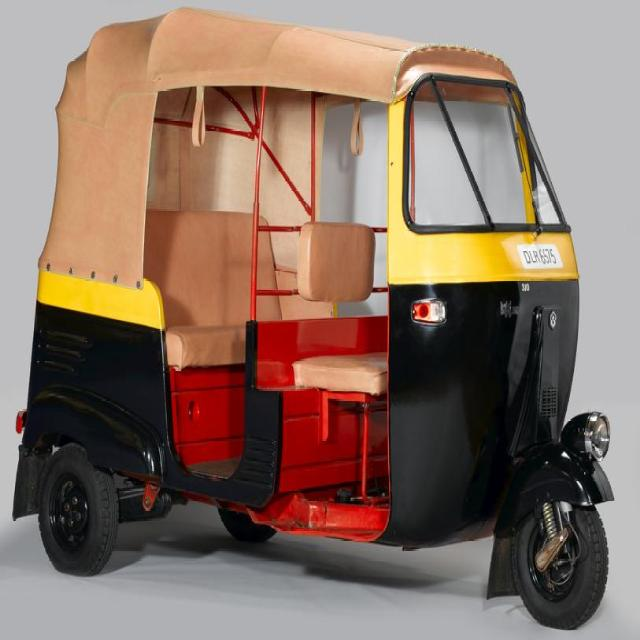autorickshaw: (12, 9, 612, 627)
